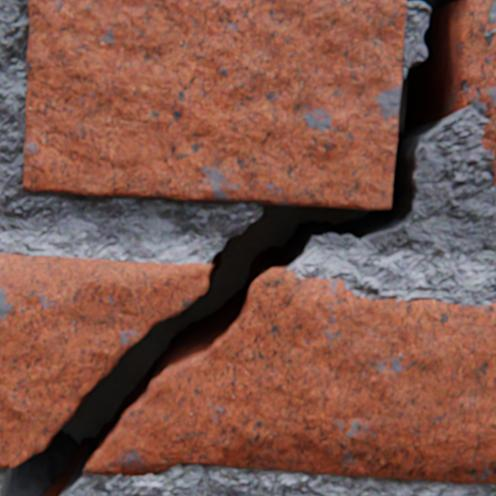brick: (24, 0, 405, 209), (467, 14, 495, 185)
broken_brick: (84, 269, 495, 482), (0, 254, 212, 466)
crack: (0, 0, 494, 495)
